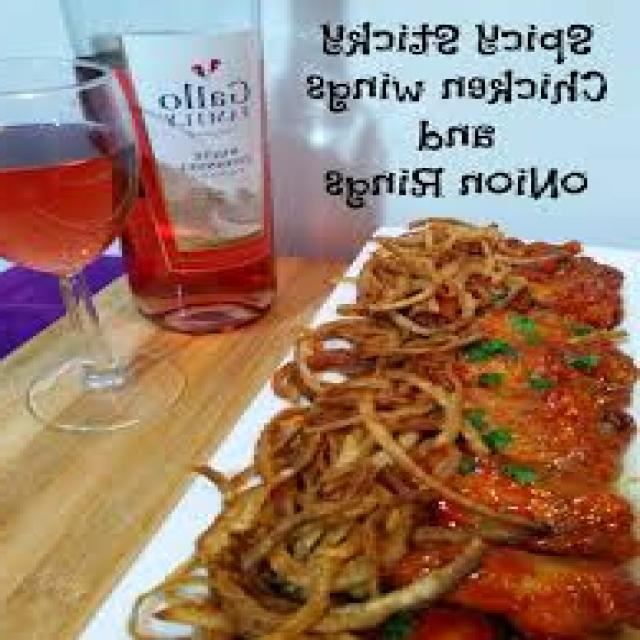Chicken Wings: (402, 222, 624, 638)
Onion Rings: (142, 205, 511, 635)
